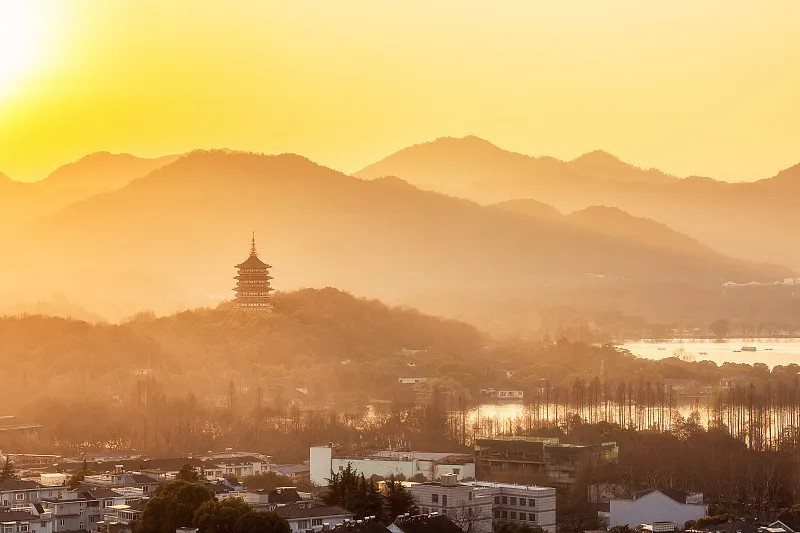Leifeng: (231, 229, 277, 319)
